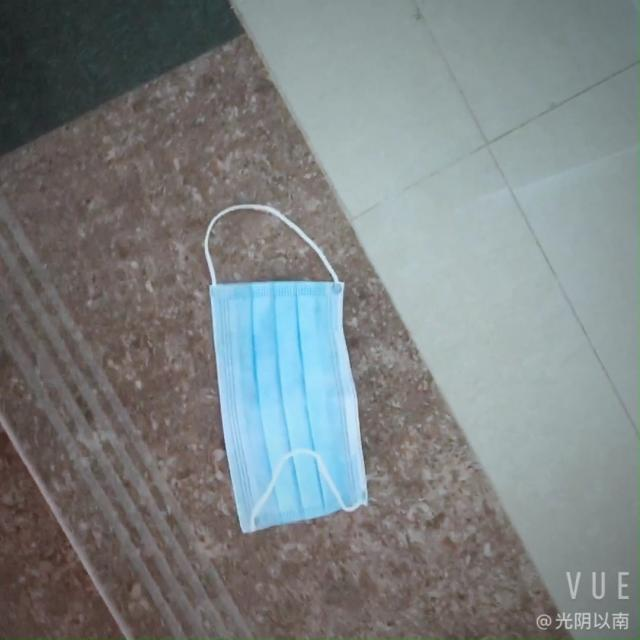face mask: (200, 271, 364, 546)
